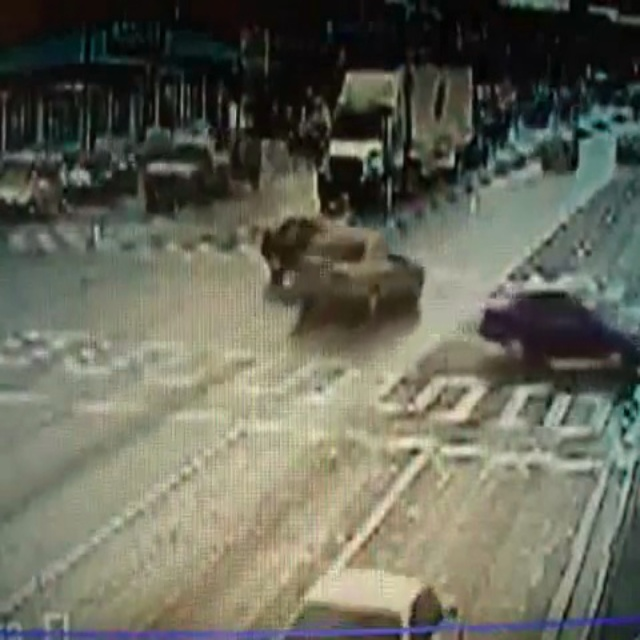acc: (227, 199, 438, 326)
